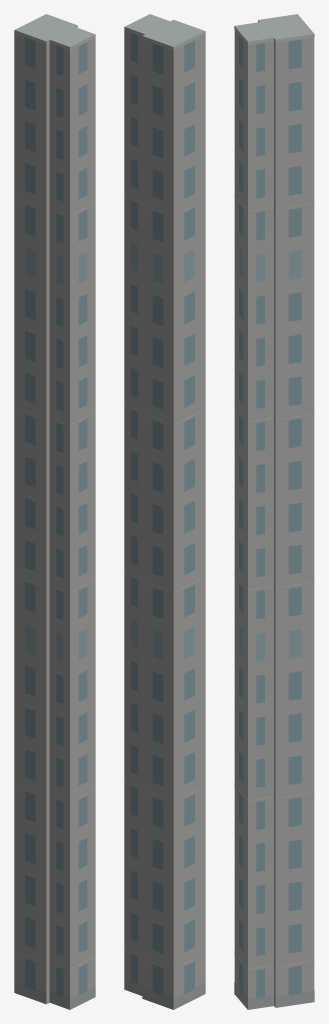
File: survey-upis-32645965.glb
3 views of the same model, side by side, from view 1: azimuth 30°, elevation 25°; view 2: azimuth 210°, elevation 25°; view 3: azimuth 270°, elevation 25° (orthographic).
Visible parts, largest first — view 1: survey-upis-32645965.tmp; view 2: survey-upis-32645965.tmp; view 3: survey-upis-32645965.tmp.
Boxes of the visible parts, <box> form: survey-upis-32645965.tmp: <box>14,14,95,1009</box>; survey-upis-32645965.tmp: <box>124,14,205,1009</box>; survey-upis-32645965.tmp: <box>234,14,314,1009</box>.
Bounding box in the file's own units: 4.32 × 70.15 × 5.28.
